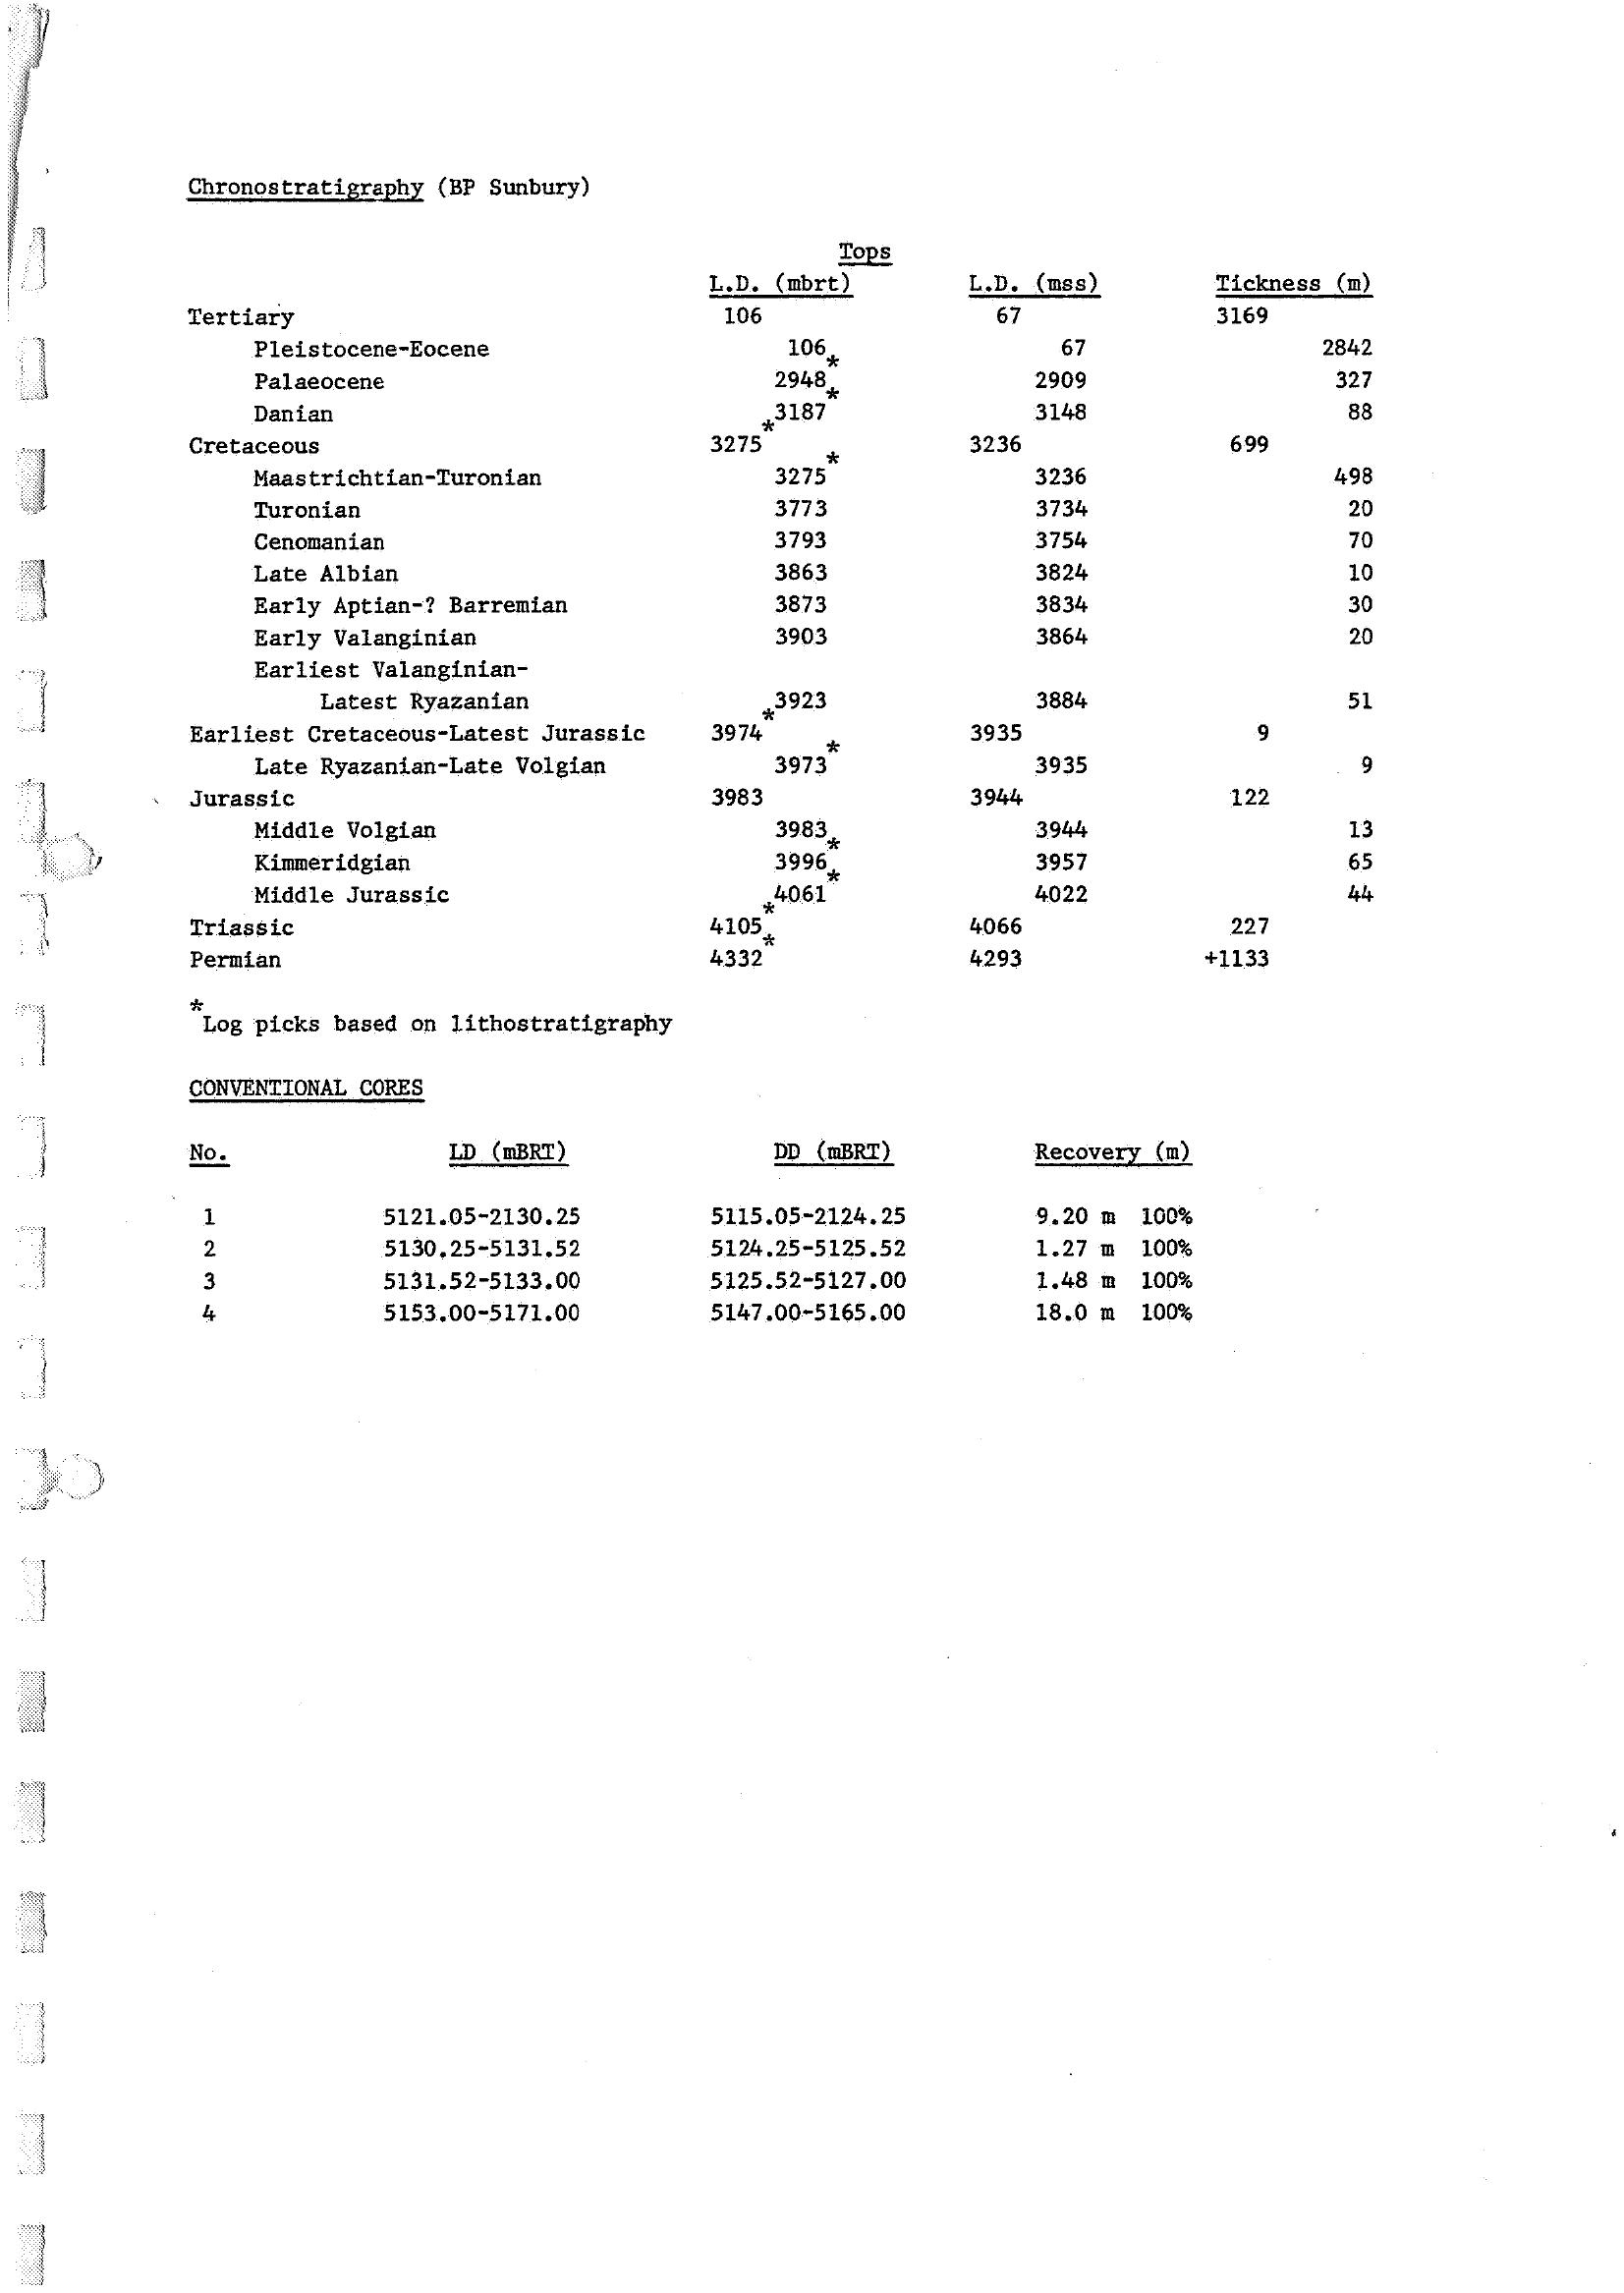table: (132, 156, 1415, 984), (132, 1058, 1248, 1365)
text: (169, 993, 707, 1045)
